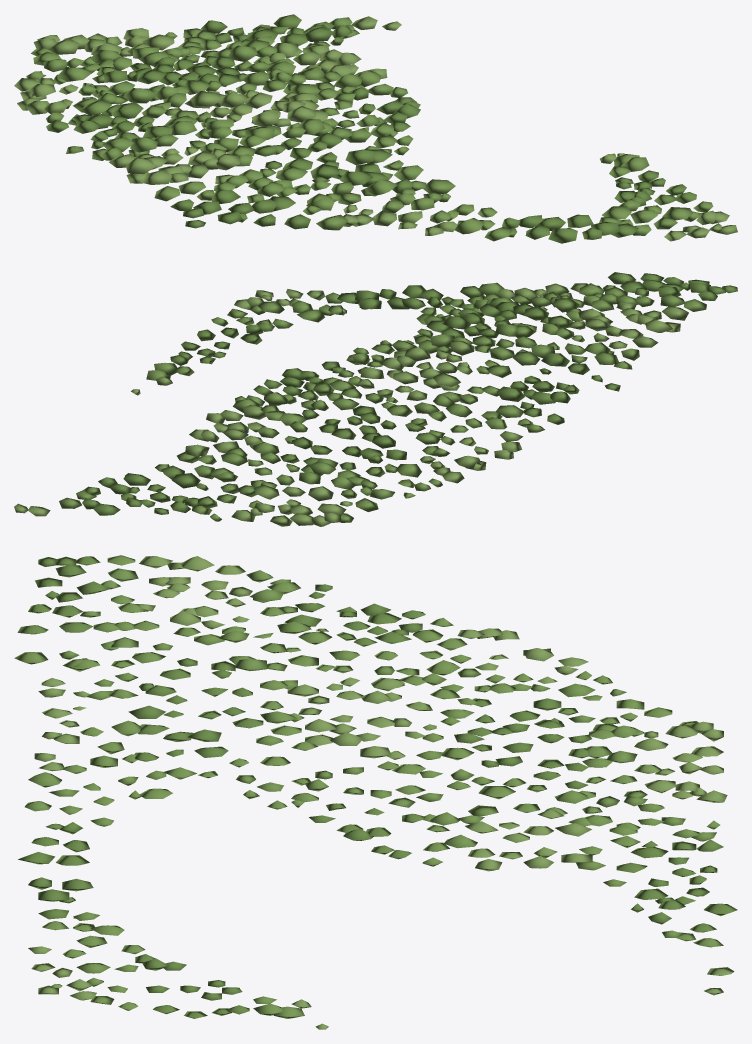
Rendered from canopy-1--2--1.glb.
The picture shows the model from 3 angles, top to bottom: view 1: azimuth 30°, elevation 25°; view 2: azimuth 150°, elevation 25°; view 3: azimuth 270°, elevation 25°; orthographic projection. The views are drawn at different scales.
Bounding box in the file's own units: 512 × 150 × 522.
Materials: 1 (1 with a texture image).
